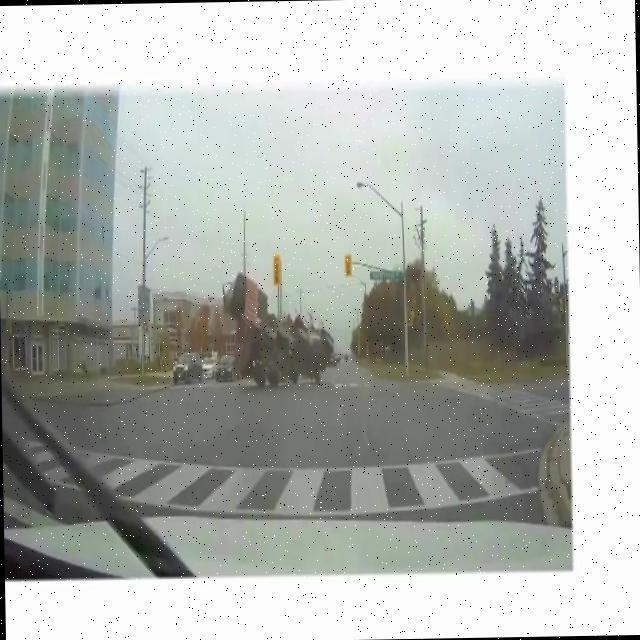accident: (222, 269, 337, 391)
